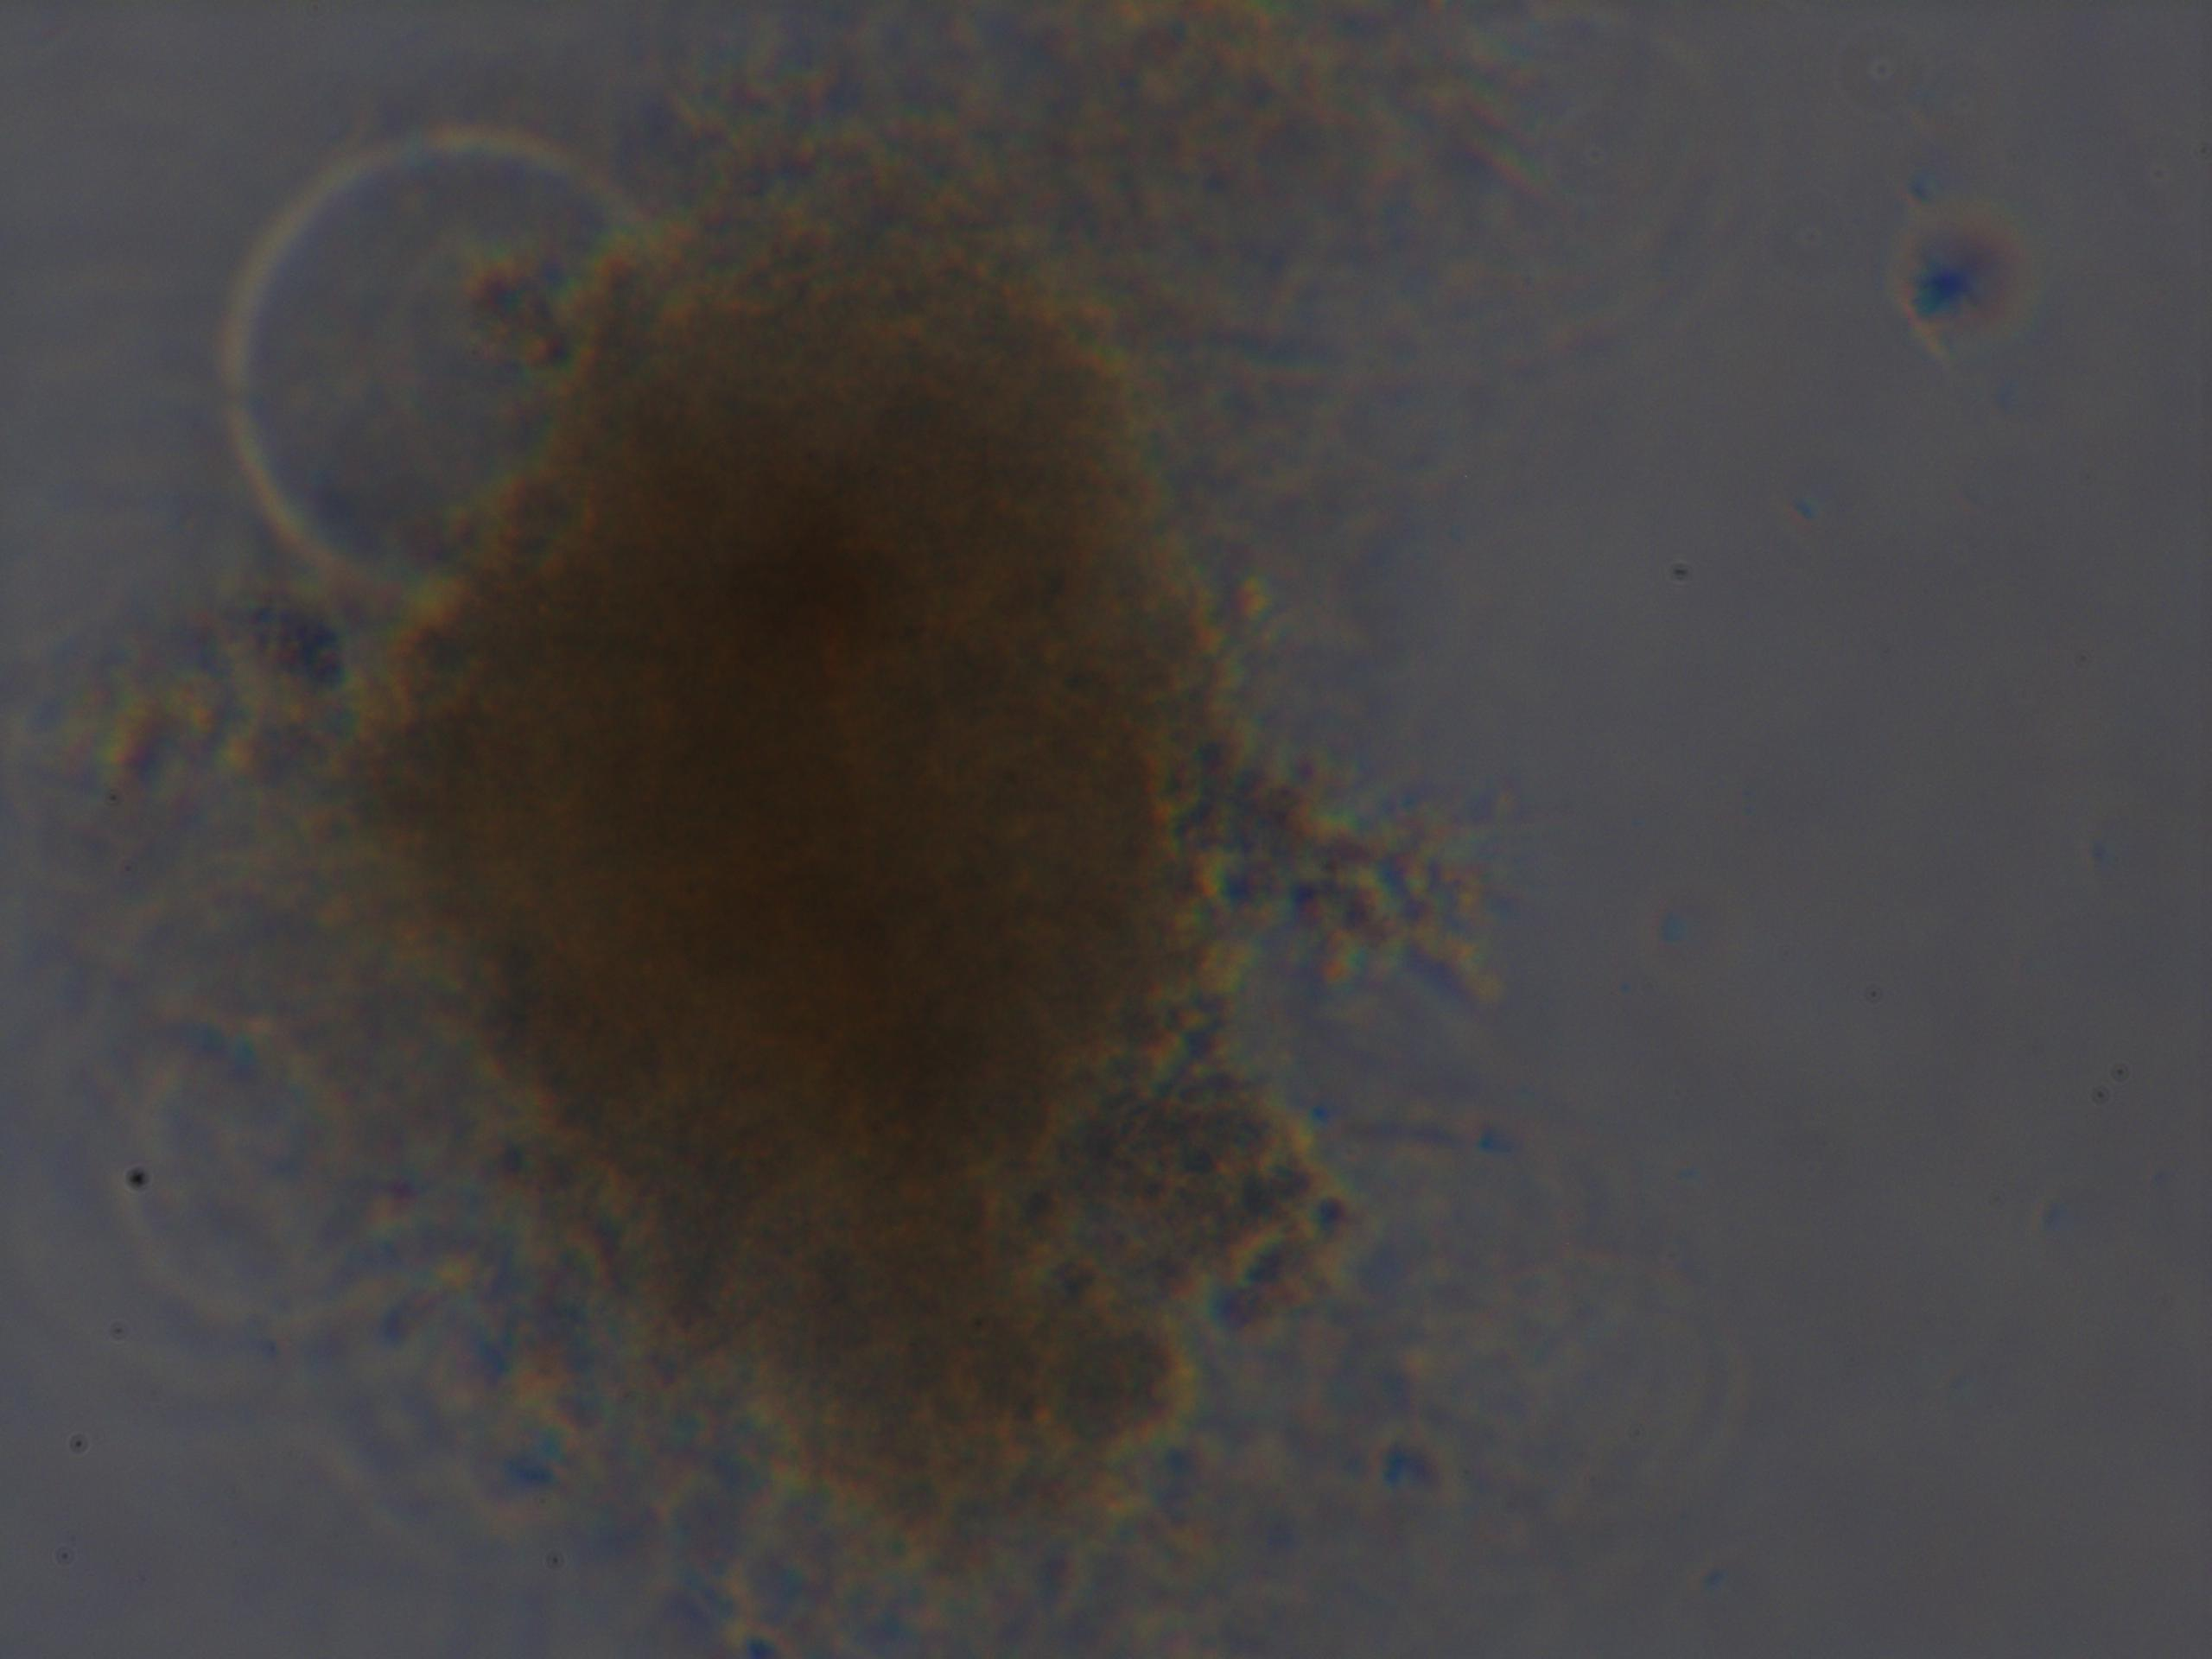spherical_floc: (291, 193, 1388, 1527)
